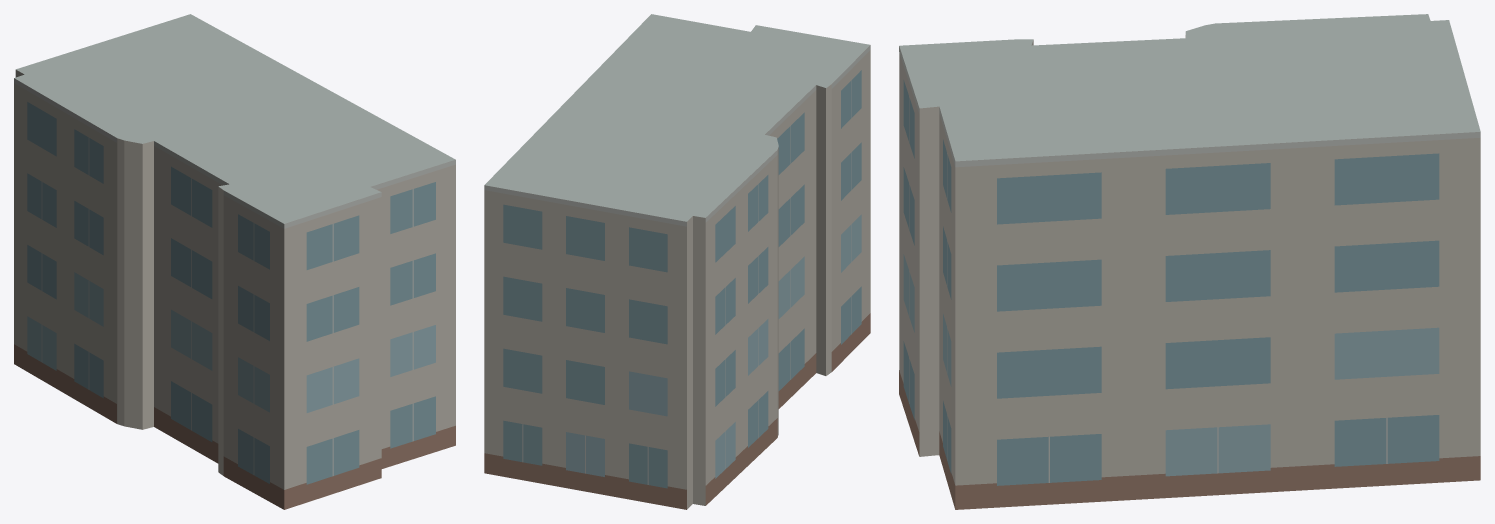
The model's file is survey-upis-32812600.glb.
3 views of the same model, side by side, from view 1: azimuth 30°, elevation 25°; view 2: azimuth 150°, elevation 25°; view 3: azimuth 270°, elevation 25° (orthographic). The views are drawn at different scales.
Parts seen in each view (by area): view 1: survey-upis-32812600.tmp; view 2: survey-upis-32812600.tmp; view 3: survey-upis-32812600.tmp.
Part boxes in pixels (box(x1,y1,x2,y2)): survey-upis-32812600.tmp: box(14, 14, 455, 509); survey-upis-32812600.tmp: box(484, 14, 870, 509); survey-upis-32812600.tmp: box(899, 14, 1480, 509).
Size of the model in its own units: 12.98 by 14.3 by 21.64.
